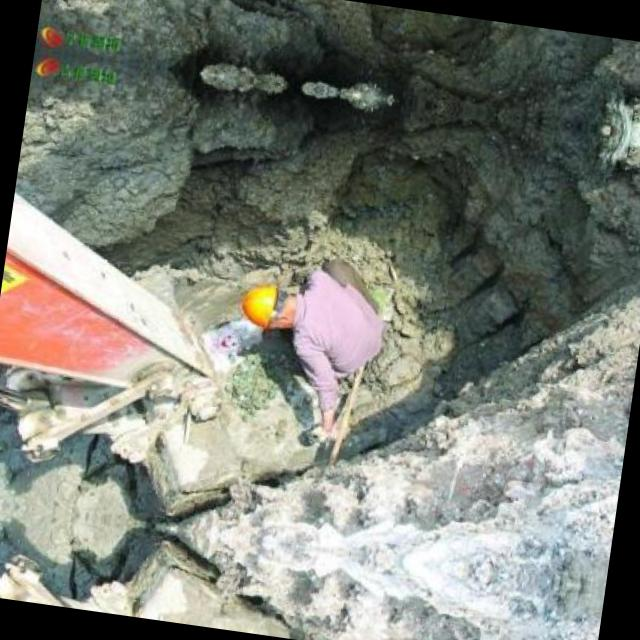helmet: (234, 278, 300, 338)
